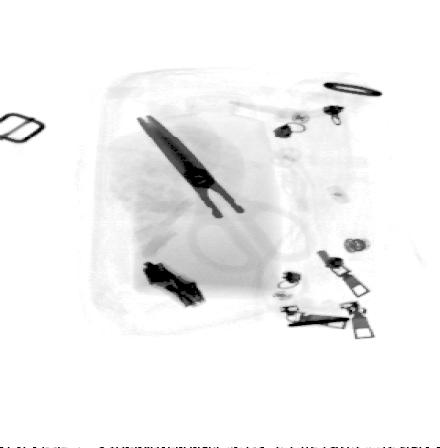Scissors: (133, 113, 317, 272)
